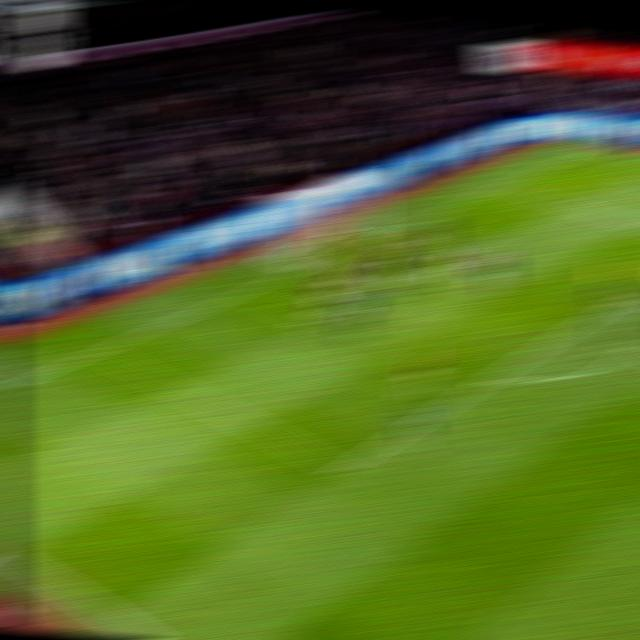bigarea_bottom_inner: (324, 455, 360, 483)
bigarea_bottom_outter: (85, 342, 114, 357)
bigarea_top_outter: (490, 179, 517, 192)
bottom_arc_area_intersection: (474, 370, 505, 387)
corner: (580, 145, 609, 151)
smallarea_bottom_inner: (296, 312, 328, 327)
smallarea_bottom_outter: (228, 285, 258, 299)
smallarea_top_inner: (469, 236, 498, 250)
smallarea_top_outter: (406, 214, 436, 226)
top_arc_area_intersection: (611, 291, 639, 305)
